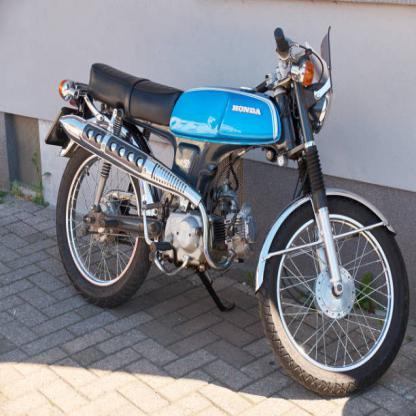Motorcycle: (46, 18, 413, 394)
